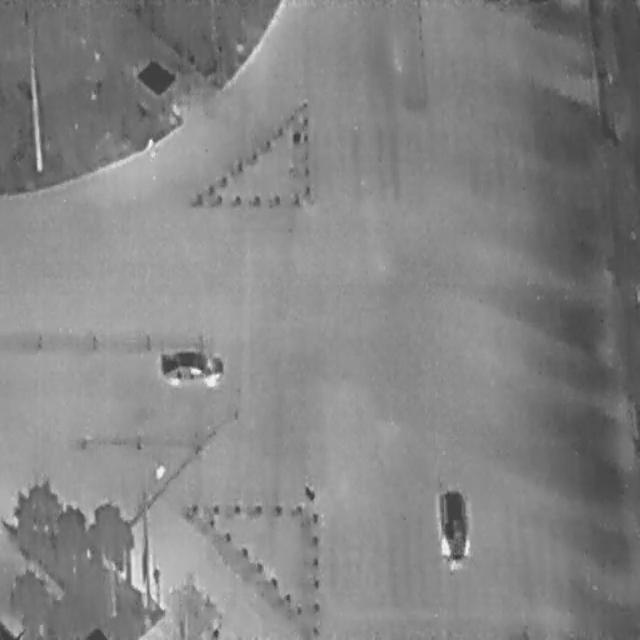Car: (432, 487, 470, 572), (155, 348, 224, 388)
